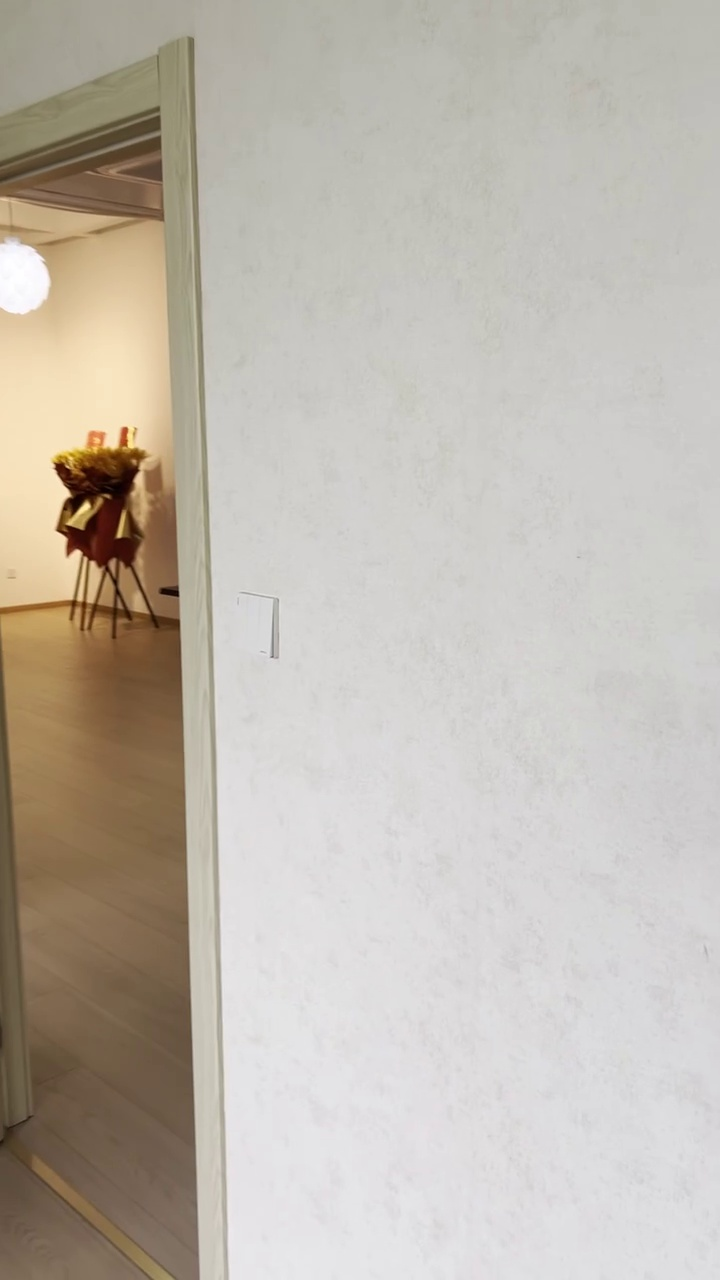button: (229, 588, 284, 660)
